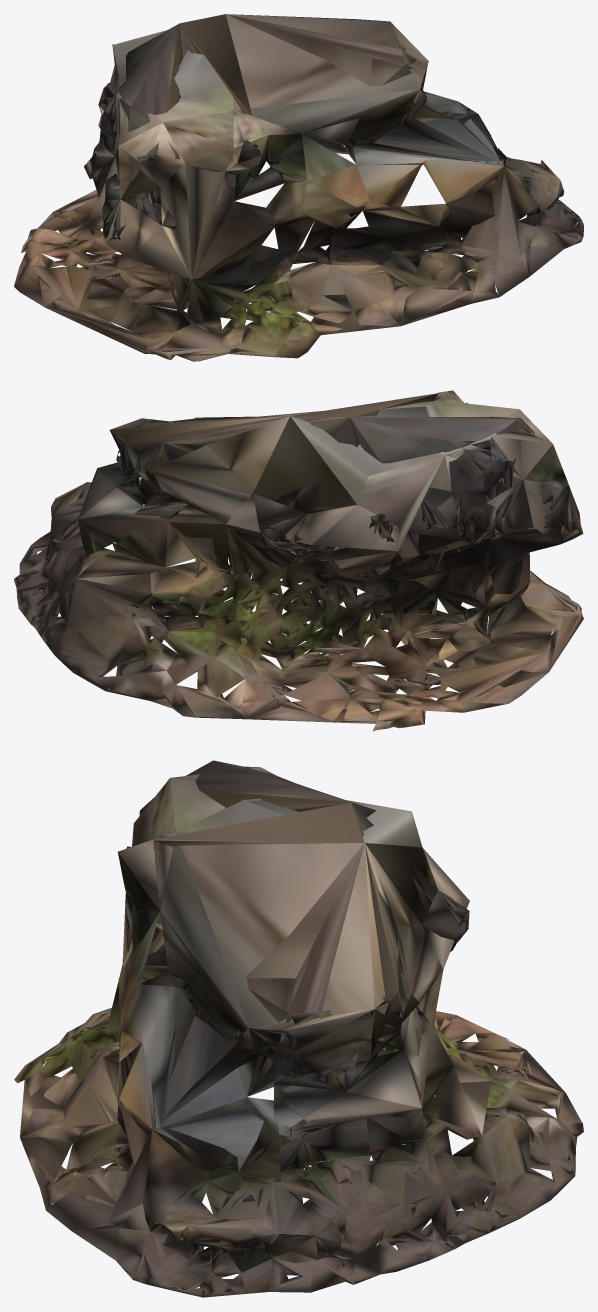
The model's file is fels-platte-moos.glb.
3 renders of one model, top to bottom at view 1: azimuth 30°, elevation 25°; view 2: azimuth 150°, elevation 25°; view 3: azimuth 270°, elevation 25°, orthographic. The views are drawn at different scales.
Visible parts, largest first — view 1: Mesh_0; view 2: Mesh_0; view 3: Mesh_0.
Part boxes in pixels (bbox=[...]): Mesh_0: bbox=[14, 14, 583, 361]; Mesh_0: bbox=[14, 390, 583, 731]; Mesh_0: bbox=[14, 760, 583, 1297].
Bounding box in the file's own units: 1.97 × 0.874 × 1.55.
Materials: 1 (1 with a texture image).
